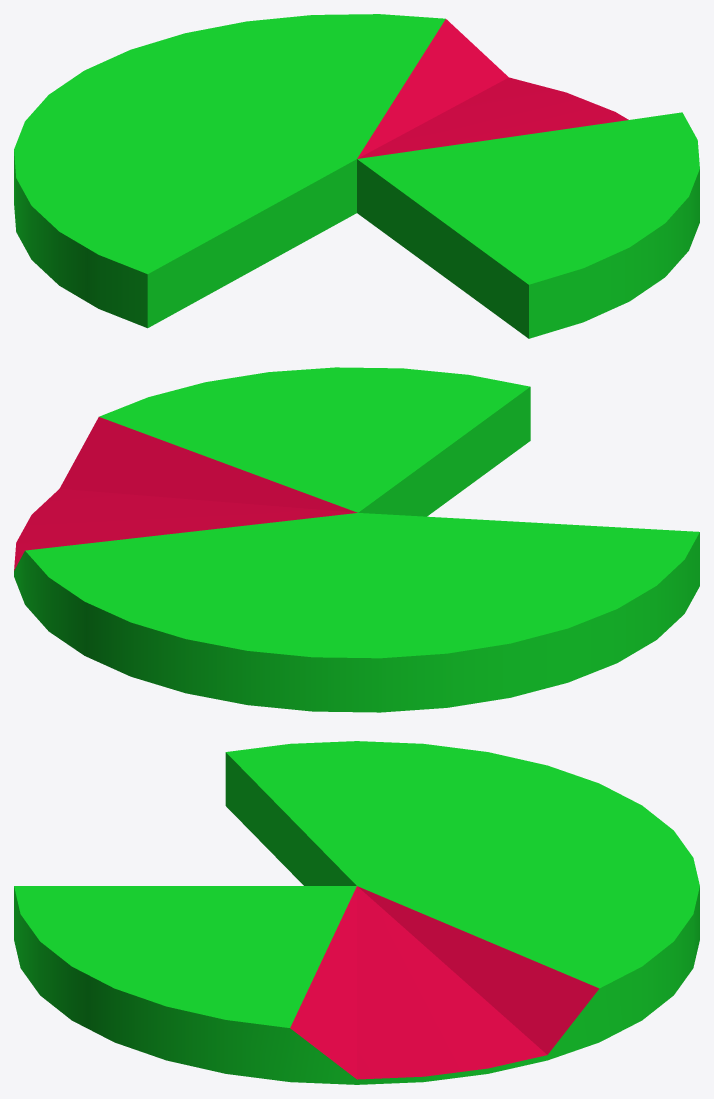
File: Platofrm2.fbx
3 views of the same model, one above another, from view 1: azimuth 30°, elevation 25°; view 2: azimuth 150°, elevation 25°; view 3: azimuth 270°, elevation 25° (orthographic).
Visible parts, largest first — view 1: Platform 2; view 2: Platform 2; view 3: Platform 2.
Part boxes in pixels (x1,y1,x2,y2): Platform 2: [14, 14, 699, 338]; Platform 2: [14, 367, 699, 712]; Platform 2: [14, 741, 699, 1084].
Bounding box in the file's own units: 384 × 33.33 × 384.
